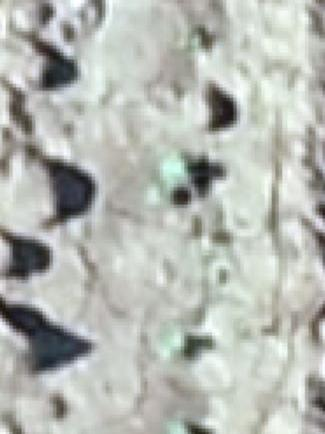cotton: (162, 330, 186, 358), (166, 153, 189, 182), (153, 187, 171, 205), (168, 422, 186, 434)
